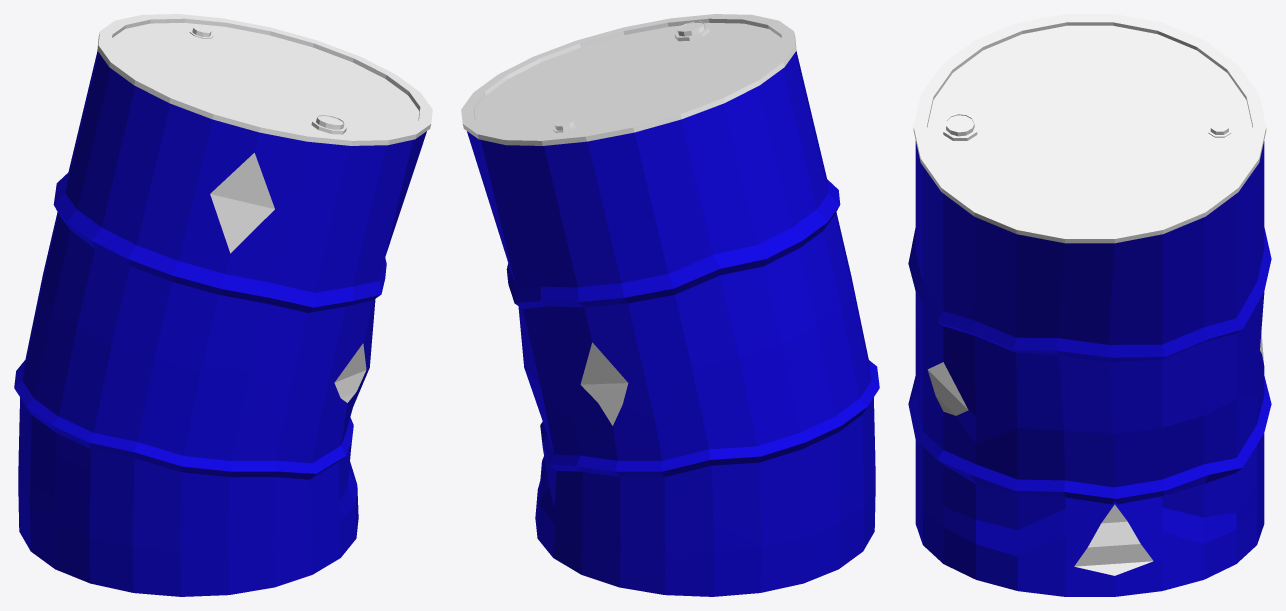
File: SM_Barrel_Broken_02.glb
3 views of the same model, side by side, from view 1: azimuth 30°, elevation 25°; view 2: azimuth 150°, elevation 25°; view 3: azimuth 270°, elevation 25° (orthographic).
Visible parts, largest first — view 1: SM_Barrel_Broken_02; view 2: SM_Barrel_Broken_02; view 3: SM_Barrel_Broken_02.
Part boxes in pixels (left/top/right/bottom): SM_Barrel_Broken_02: left=14, top=14, right=432, bottom=596; SM_Barrel_Broken_02: left=461, top=14, right=879, bottom=596; SM_Barrel_Broken_02: left=908, top=14, right=1271, bottom=596.
Bounding box in the file's own units: 0.7377 × 0.8965 × 0.6177.
